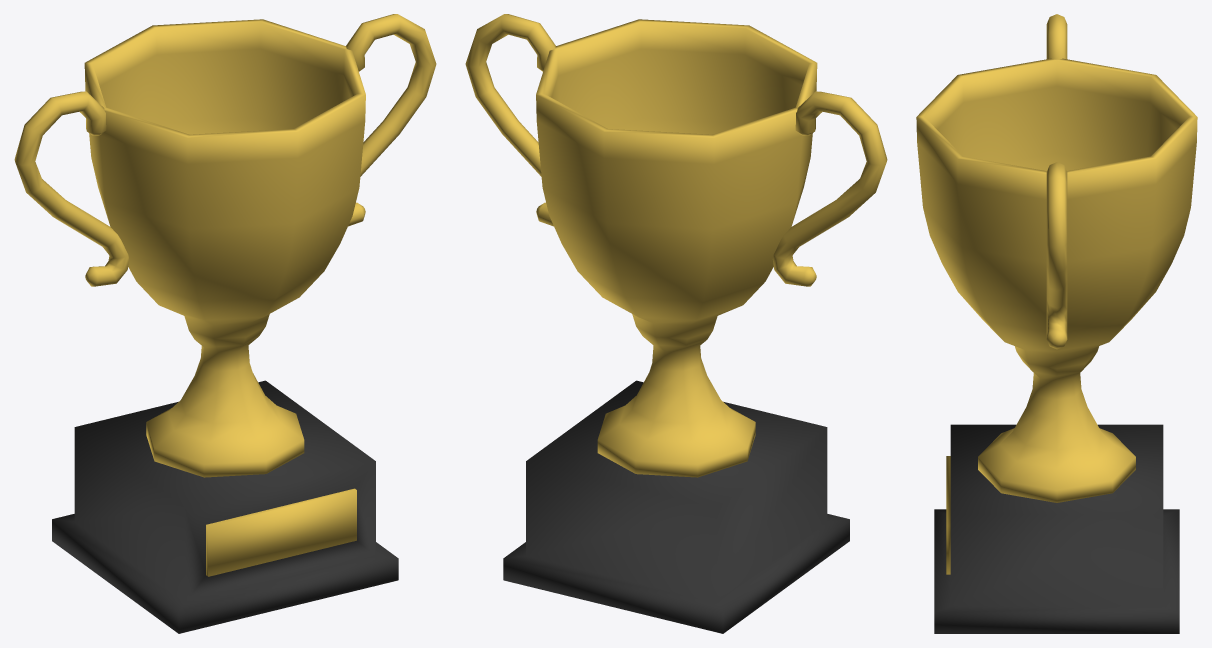
File: trophy_psx.glb
3 views of the same model, side by side, from view 1: azimuth 30°, elevation 25°; view 2: azimuth 150°, elevation 25°; view 3: azimuth 270°, elevation 25° (orthographic). The views are drawn at different scales.
Visible parts, largest first — view 1: PSX Trophy V2_0; view 2: PSX Trophy V2_0; view 3: PSX Trophy V2_0.
Part boxes in pixels (x1,y1,x2,y2): PSX Trophy V2_0: (14,14,436,633); PSX Trophy V2_0: (465,14,887,633); PSX Trophy V2_0: (916,14,1197,633).
Size of the model in its own units: 0.7595 by 0.8723 by 0.4563.
